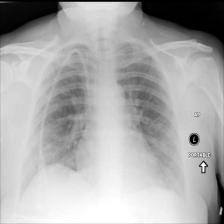normal: (27, 39, 188, 192)
